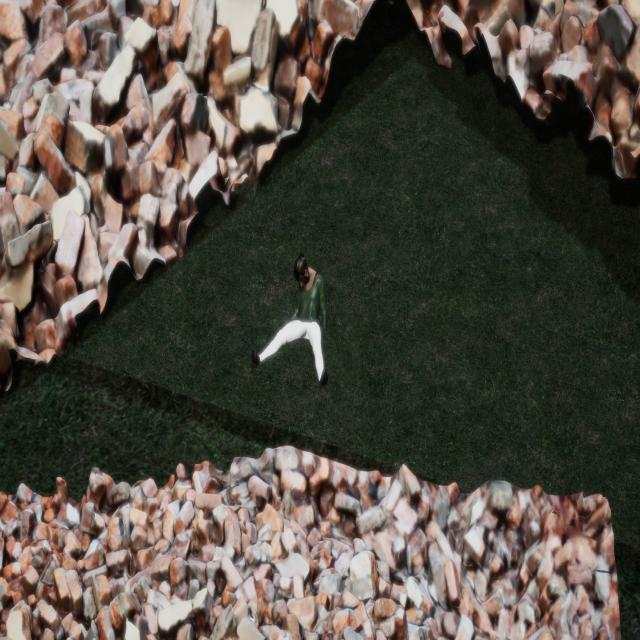Human: (249, 248, 331, 407)
